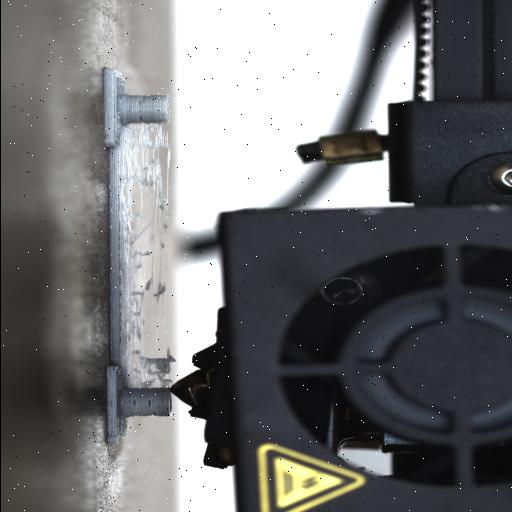stringing: (126, 132, 170, 312)
